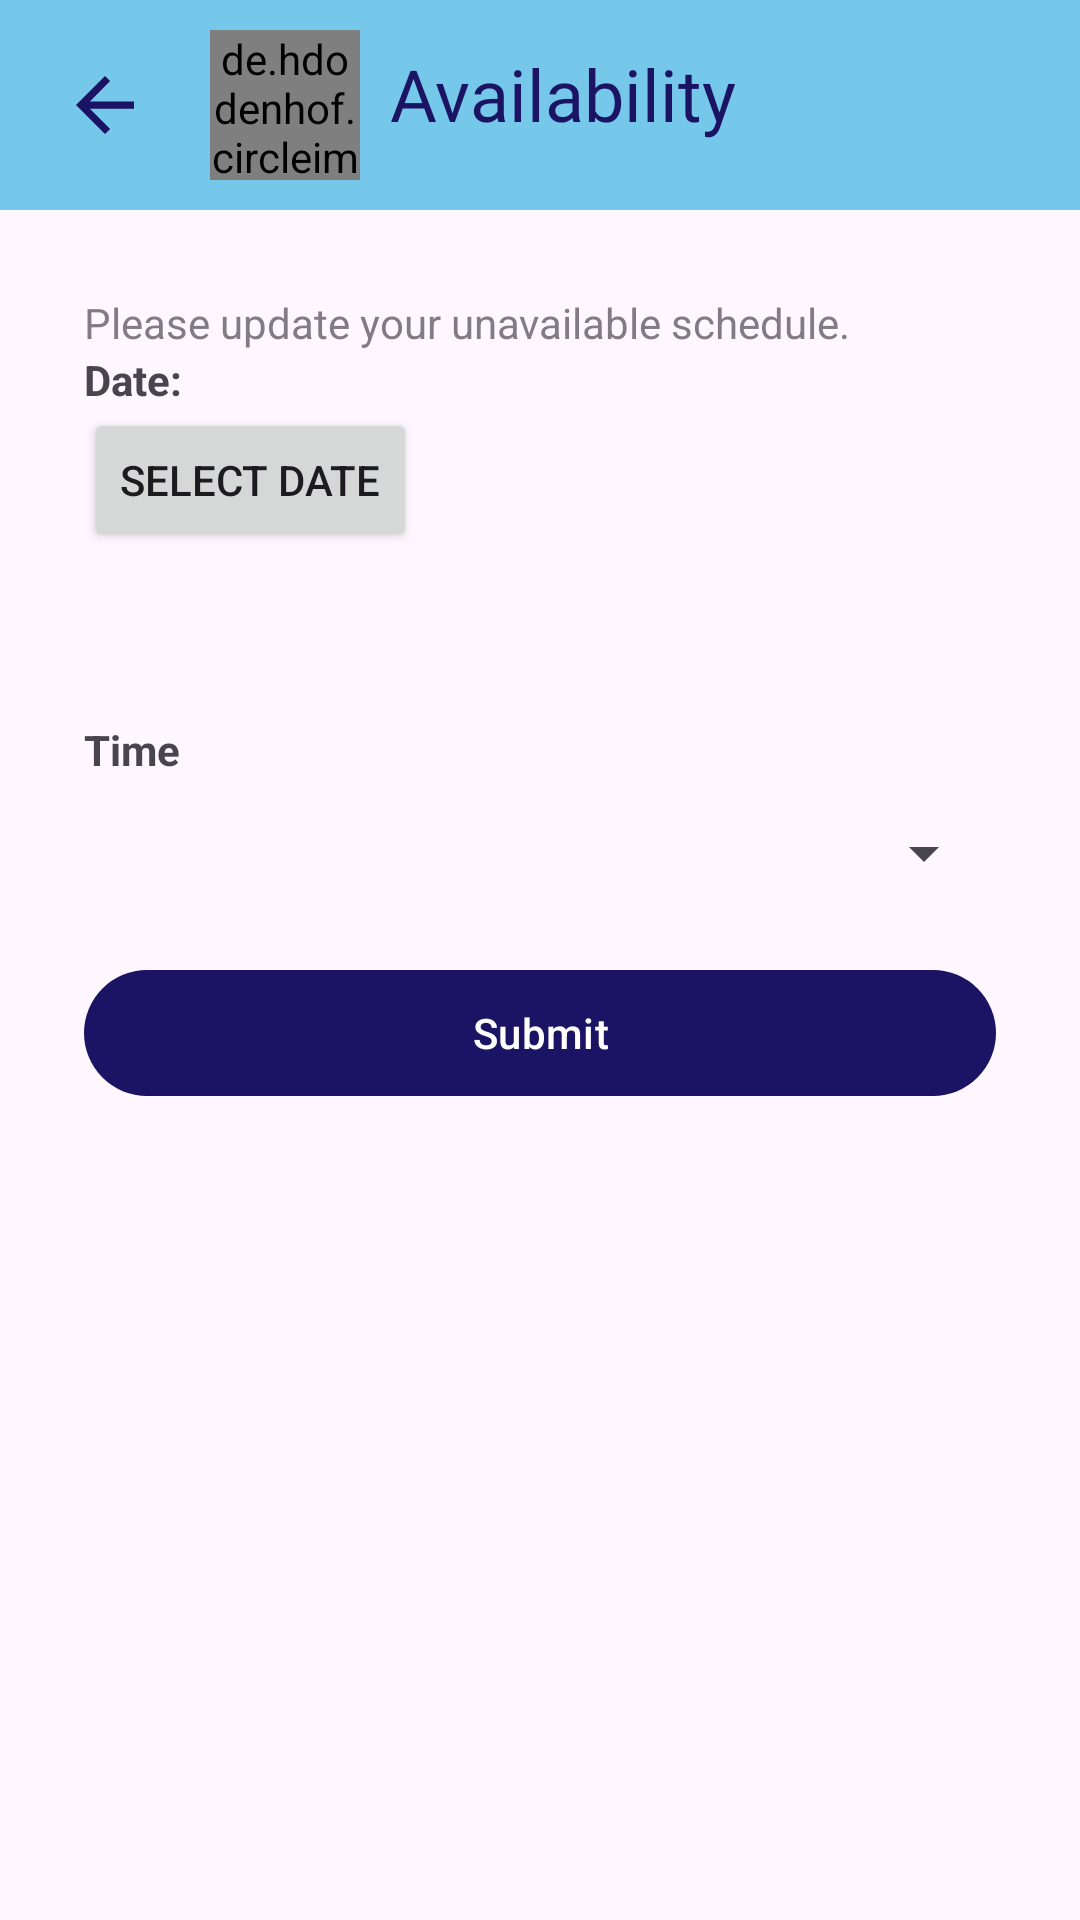

Named icons in this screenshot (1080px x 1920px) and their centers, [x,y]:
back: [105,105]
